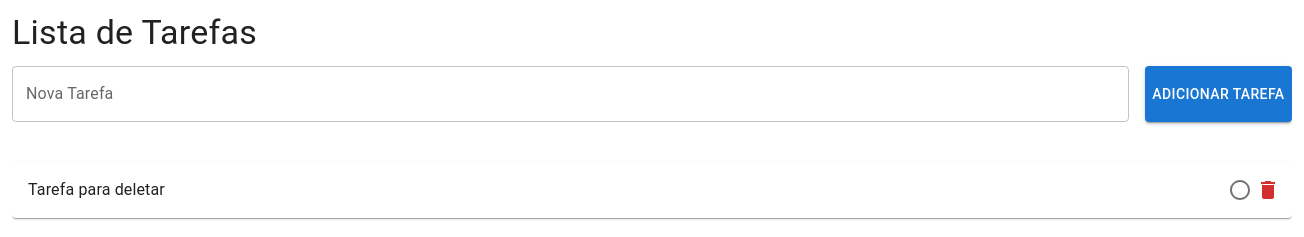
TodoList › deve deletar uma tarefa da lista
The width and height of the screenshot is (1304, 237).
Click the button named "delete" at (1268, 190), box [1248, 170, 1288, 210]
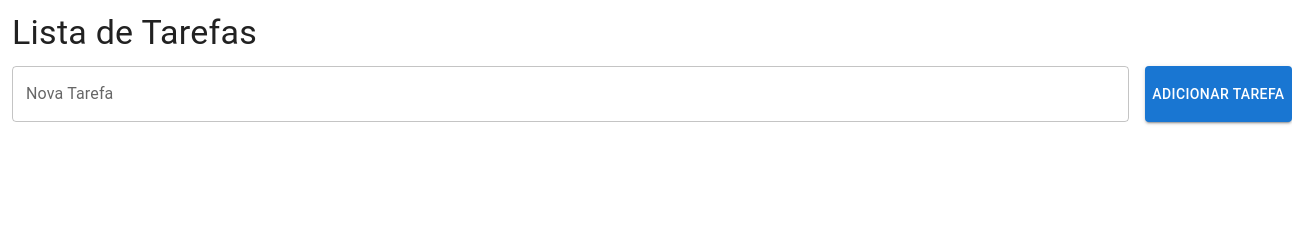
Now the text "Tarefa para deletar" is gone
